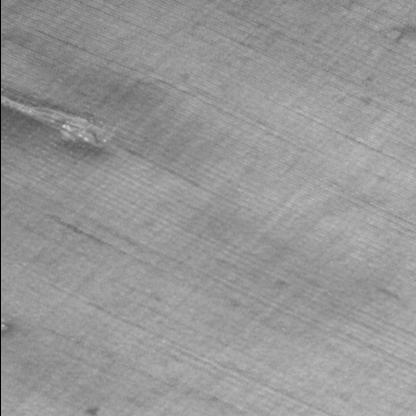hole: (0, 92, 110, 154), (0, 322, 14, 338)
